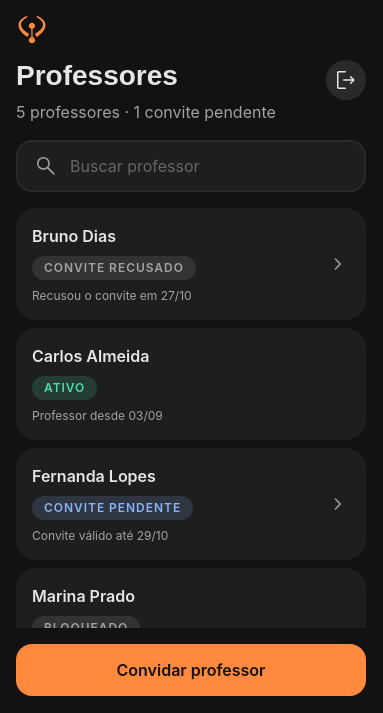
Test case: Lista de professores (regras 92, 102 e 114) › busca sem resultado
In the search field labelled "Buscar professor": point(209, 166) [70,142,348,190], type "Xavier"
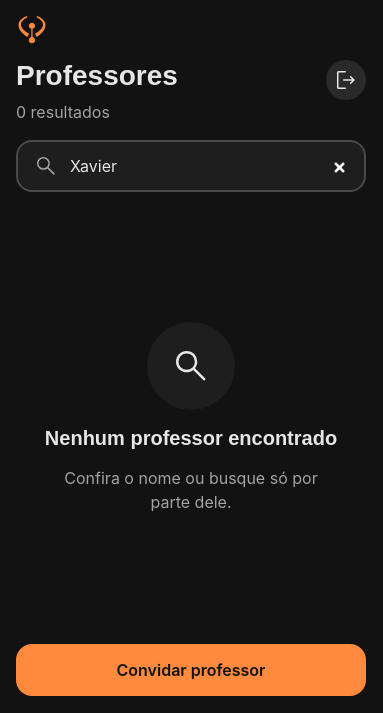
Result: the text "0 resultados" is shown at [16,102,110,122]
Result: the heading "Nenhum professor encontrado" is shown at [45,426,337,450]
Result: the text "Confira o nome ou busque só por parte dele." is shown at [61,466,321,514]
